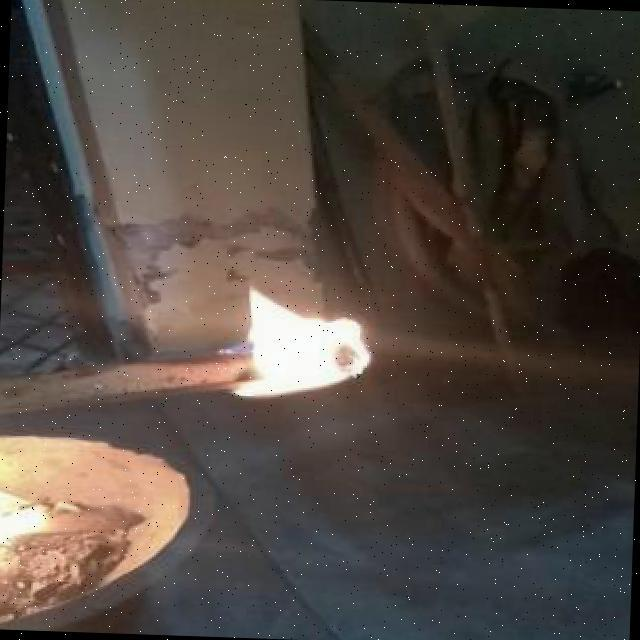Fire: (201, 258, 400, 415)
